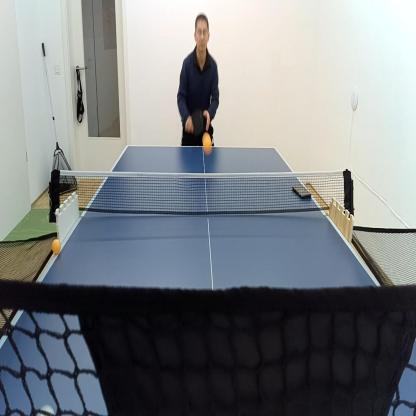Ball: (201, 130, 213, 157), (50, 237, 62, 257)
